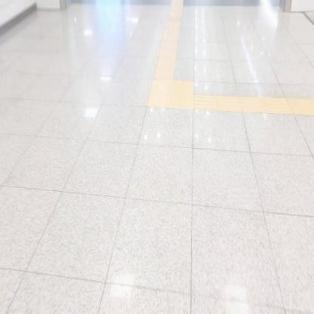Podoctatil: (138, 61, 205, 134), (194, 91, 313, 117), (152, 0, 185, 77)
